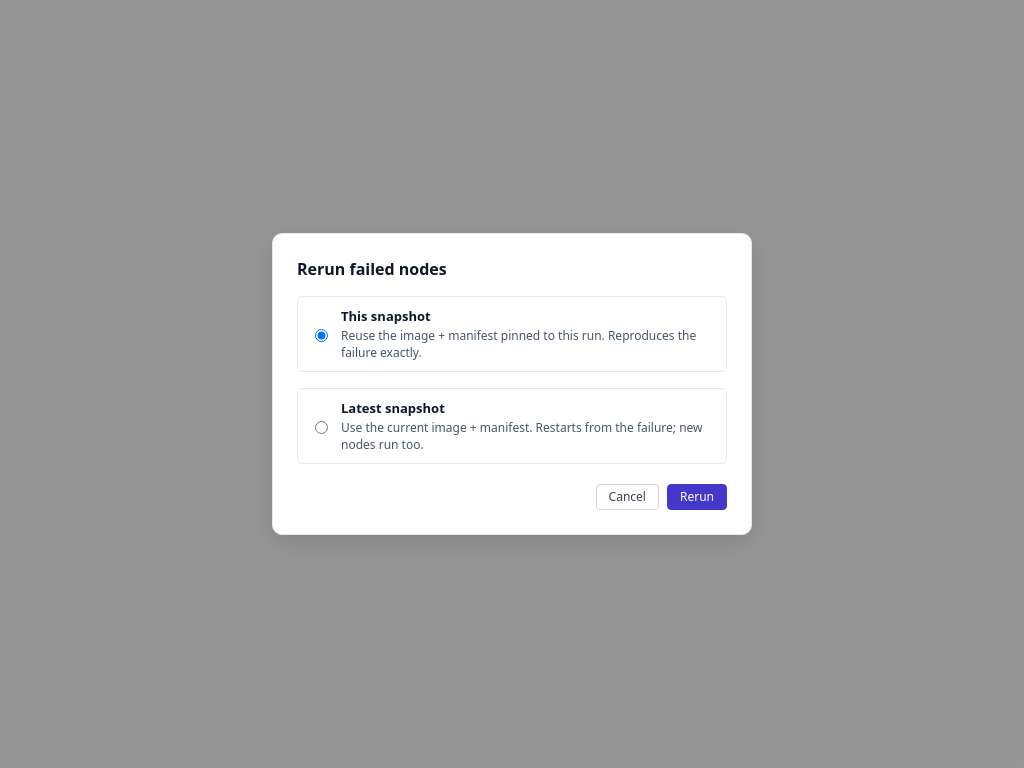
RerunFailedModal — This snapshot › keeps a refusal inside the dialog as an error strip and lets the user try again
Click the button "Rerun": (697, 497) [667, 484, 727, 510]
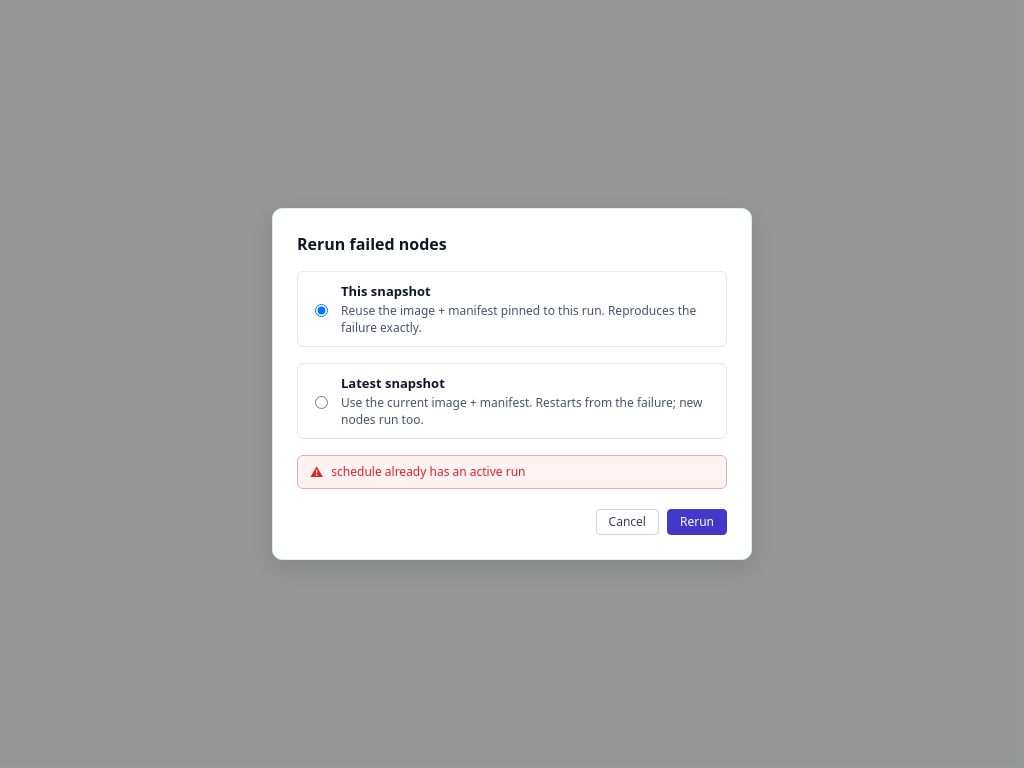
Check: the button "Rerun" is enabled, box [667, 509, 727, 535]
Check: the text "schedule already has an active run" is shown, box [331, 463, 525, 480]
